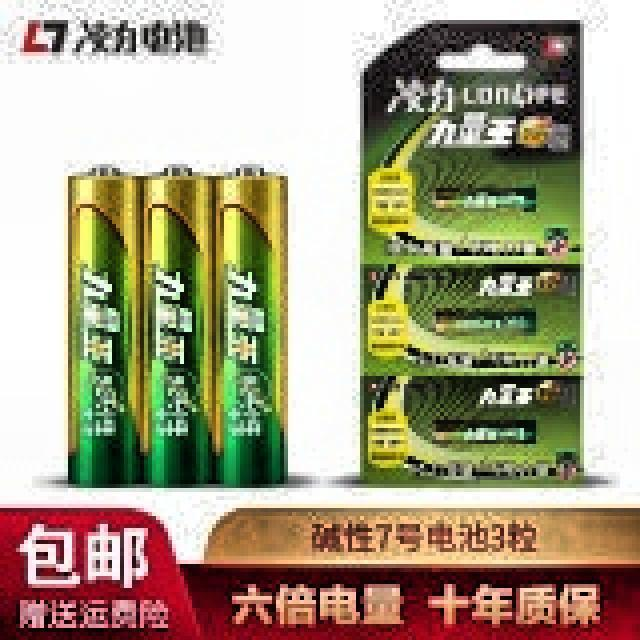battery: (361, 21, 582, 484), (69, 165, 148, 486), (212, 165, 286, 486), (142, 166, 214, 486)
